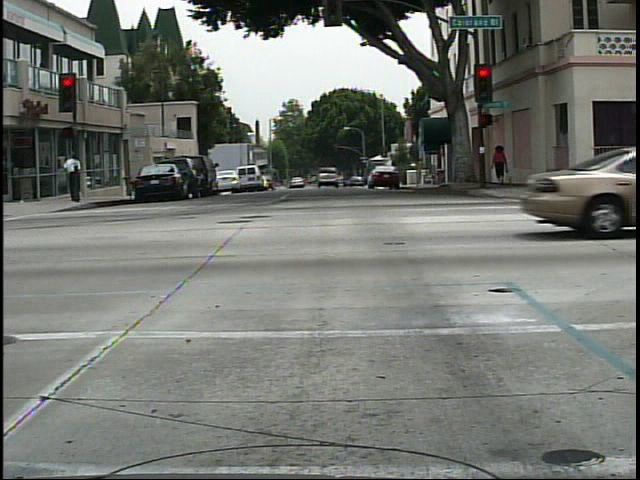person: (58, 143, 87, 205), (485, 138, 515, 191)
